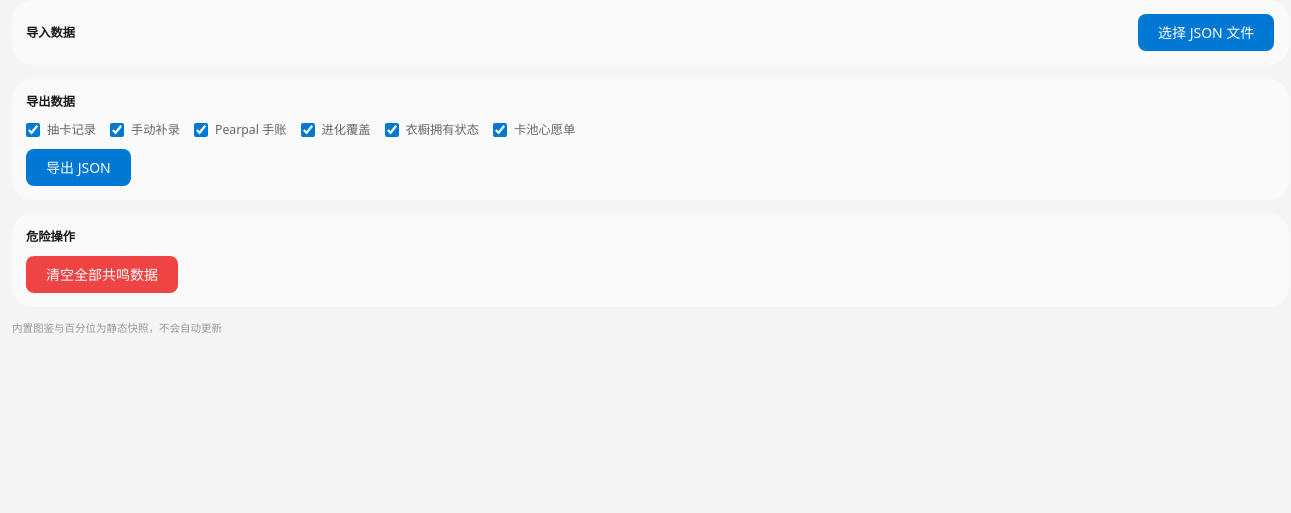
Test case: ImportExportView › 选择文件后显示预览摘要（格式 / 分区 / 计数 / 无效样本）
Click the button "选择 JSON 文件" at x=1206, y=32, box [1138, 14, 1274, 51]
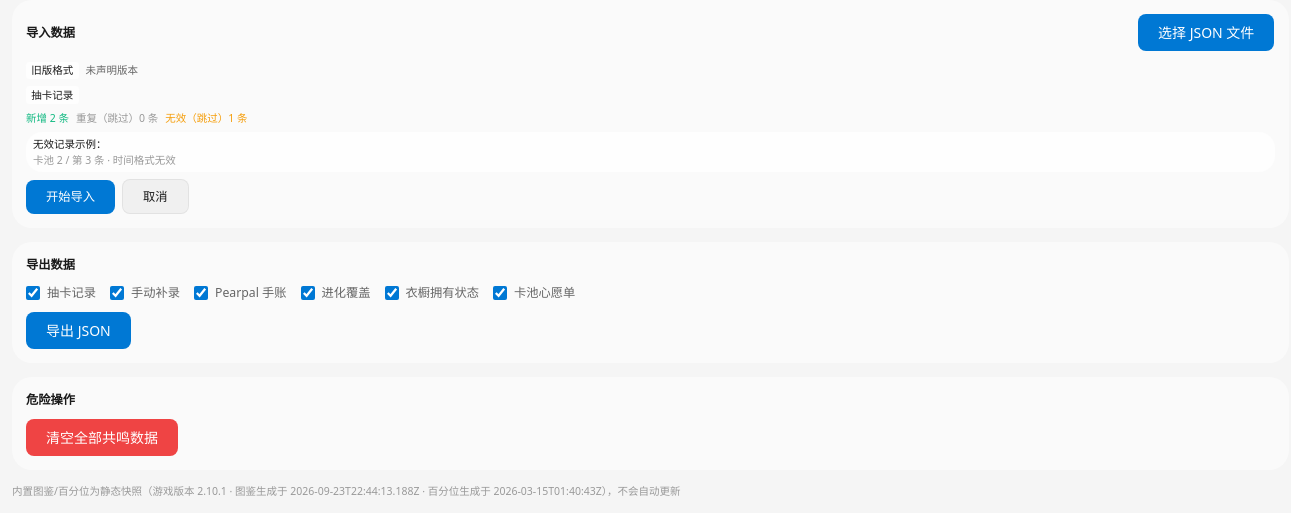
Now the text "旧版格式" is shown, box [26, 62, 78, 79]
Now the text "新增 2 条" is shown, box [26, 110, 69, 124]
Now the text "重复（跳过）0 条" is shown, box [76, 110, 158, 124]
